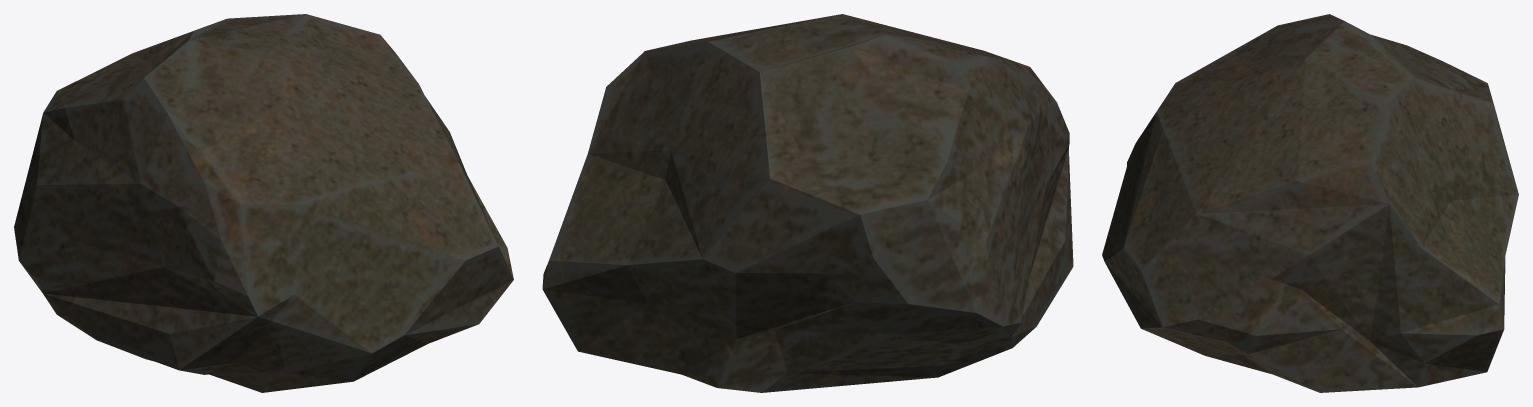
Rendered from stone test.glb.
The picture shows the model from 3 angles, left to right: view 1: azimuth 30°, elevation 25°; view 2: azimuth 150°, elevation 25°; view 3: azimuth 270°, elevation 25°; orthographic projection. The views are drawn at different scales.
Parts seen in each view (by area): view 1: Stone_04_Material #2_0; view 2: Stone_04_Material #2_0; view 3: Stone_04_Material #2_0.
Boxes of the visible parts, x1=… form: Stone_04_Material #2_0: x1=14, y1=14, x2=513, y2=392; Stone_04_Material #2_0: x1=542, y1=14, x2=1073, y2=392; Stone_04_Material #2_0: x1=1102, y1=14, x2=1518, y2=392.
Bounding box in the file's own units: 0.283 × 0.1946 × 0.2801.
Materials: 1 (1 with a texture image).
